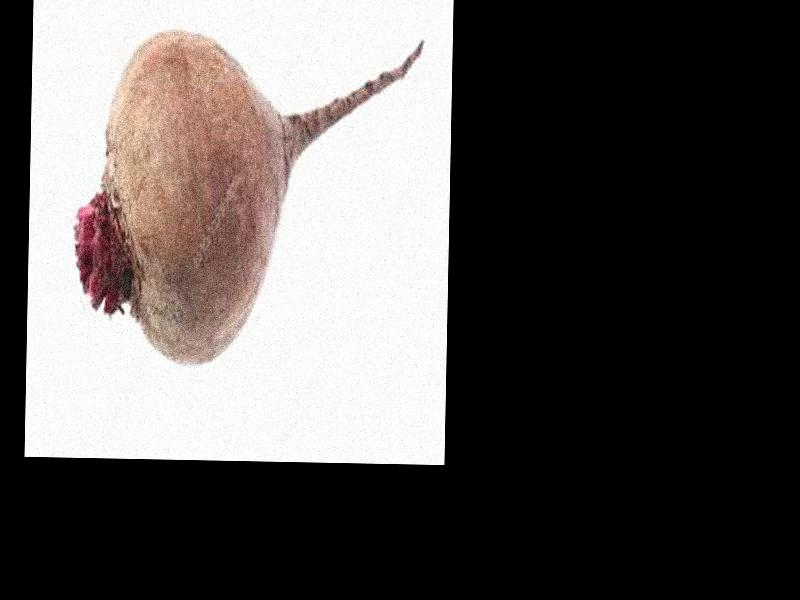Beet: (73, 28, 424, 375)
